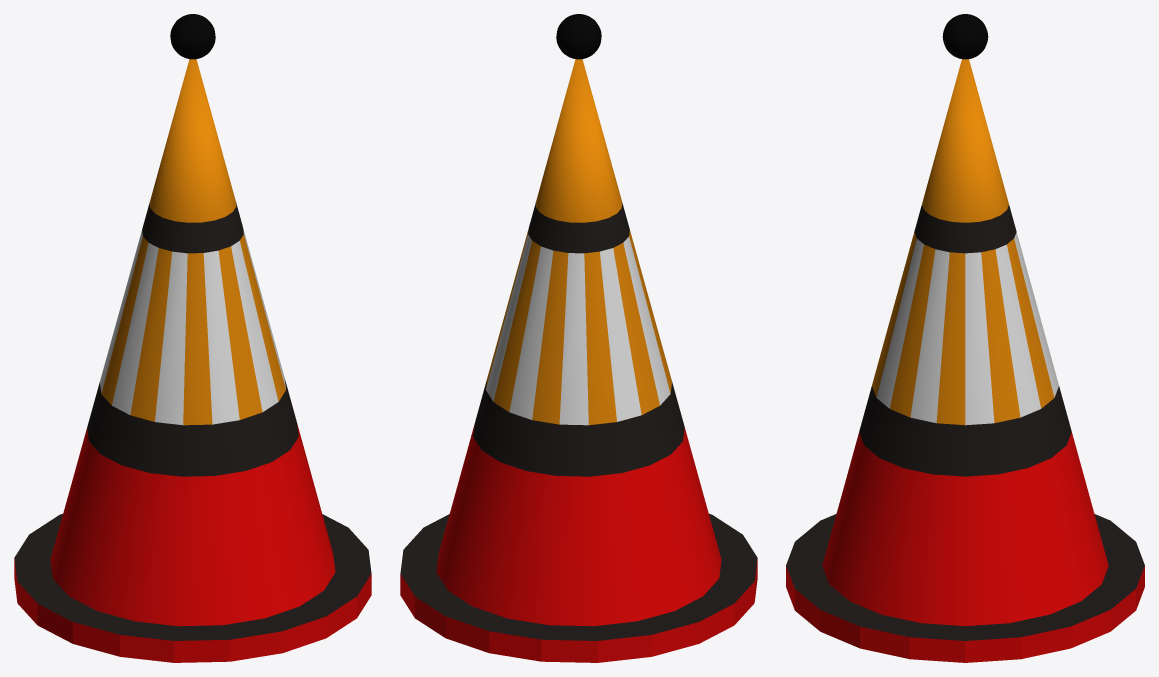
The model's file is duba.fbx.
3 renders of one model, left to right at view 1: azimuth 30°, elevation 25°; view 2: azimuth 150°, elevation 25°; view 3: azimuth 270°, elevation 25°, orthographic.
Visible parts, largest first — view 1: pCone2; view 2: pCone2; view 3: pCone2.
Part boxes in pixels (box(x1,y1,x2,y2)): pCone2: box(14, 14, 371, 662); pCone2: box(400, 14, 757, 662); pCone2: box(786, 14, 1144, 662).
Bounding box in the file's own units: 3.02 × 5.3 × 3.02.
